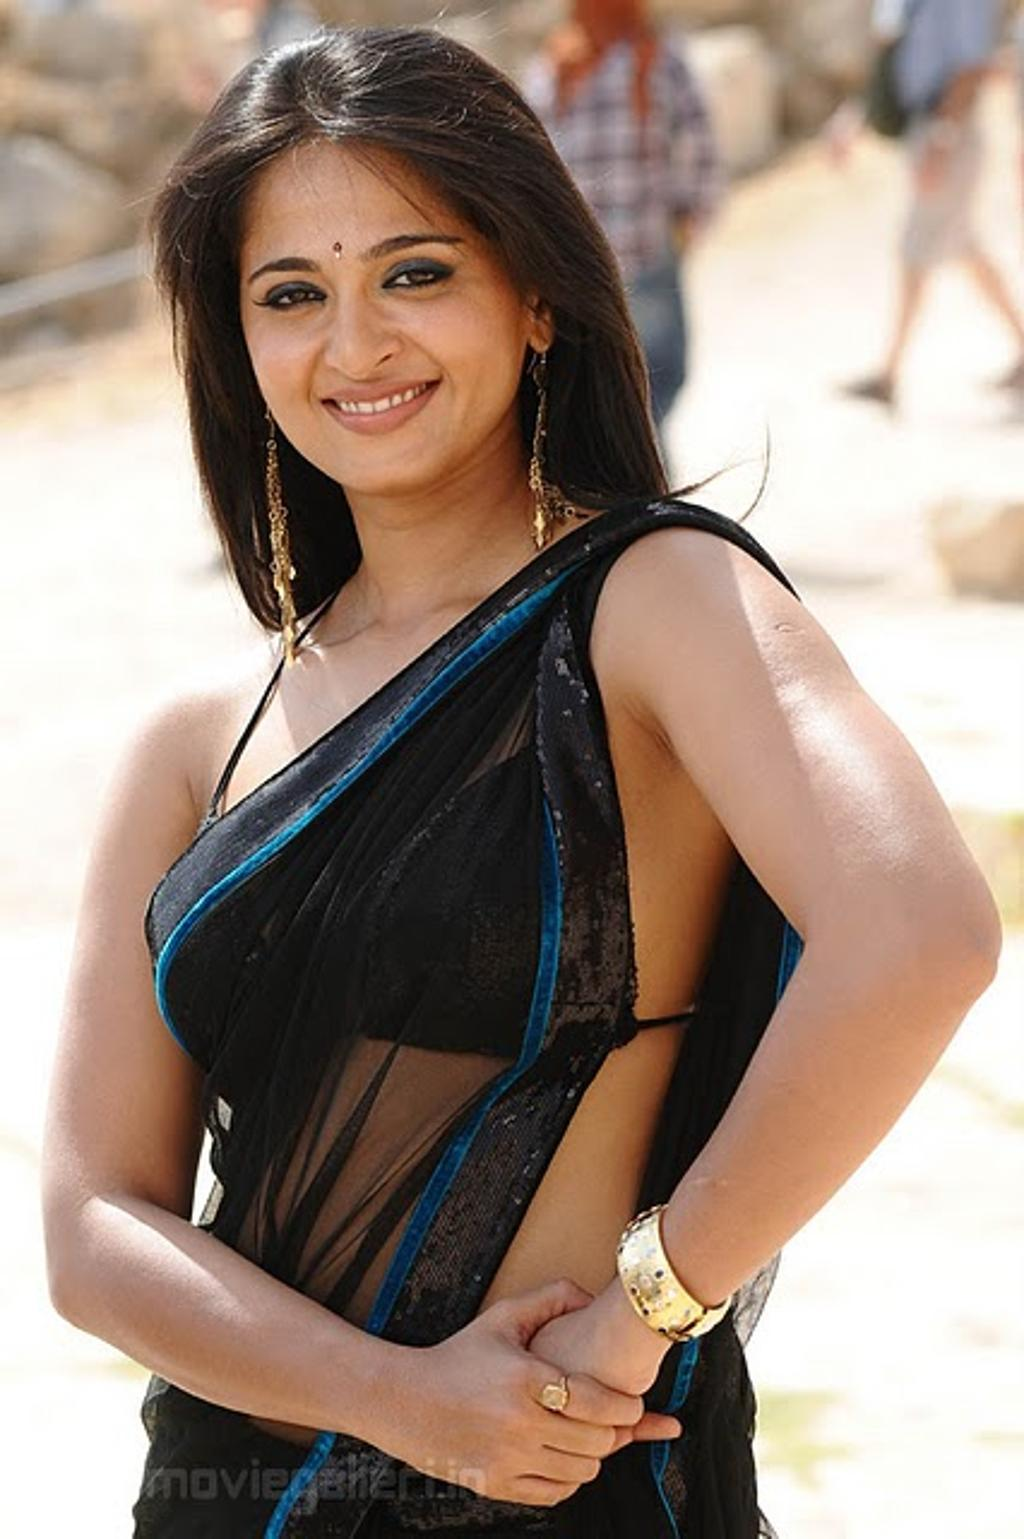face: (232, 154, 517, 490)
